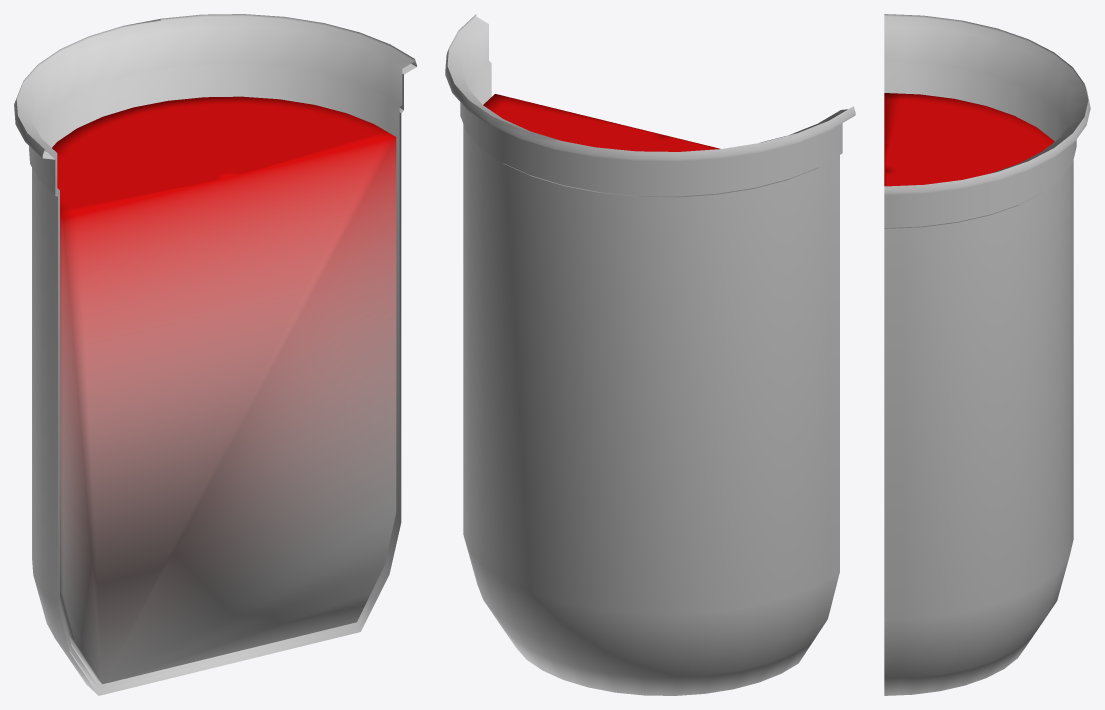
The model's file is boba-cup.fbx.
3 views of the same model, side by side, from view 1: azimuth 30°, elevation 25°; view 2: azimuth 150°, elevation 25°; view 3: azimuth 270°, elevation 25° (orthographic). The views are drawn at different scales.
Parts seen in each view (by area): view 1: Liquid, Cup; view 2: Cup, Liquid; view 3: Cup, Liquid.
Part boxes in pixels (box(x1,y1,x2,y2)): Liquid: box(52, 96, 396, 684); Cup: box(14, 14, 416, 695); Cup: box(445, 14, 855, 695); Liquid: box(483, 94, 720, 151); Cup: box(884, 14, 1090, 695); Liquid: box(884, 93, 1054, 186).
Bounding box in the file's own units: 481 × 687 × 240.
